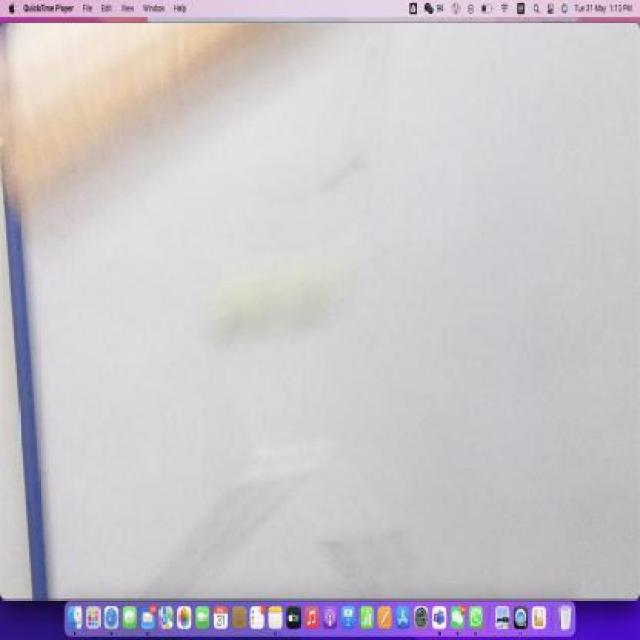baseball: (205, 262, 358, 348)
